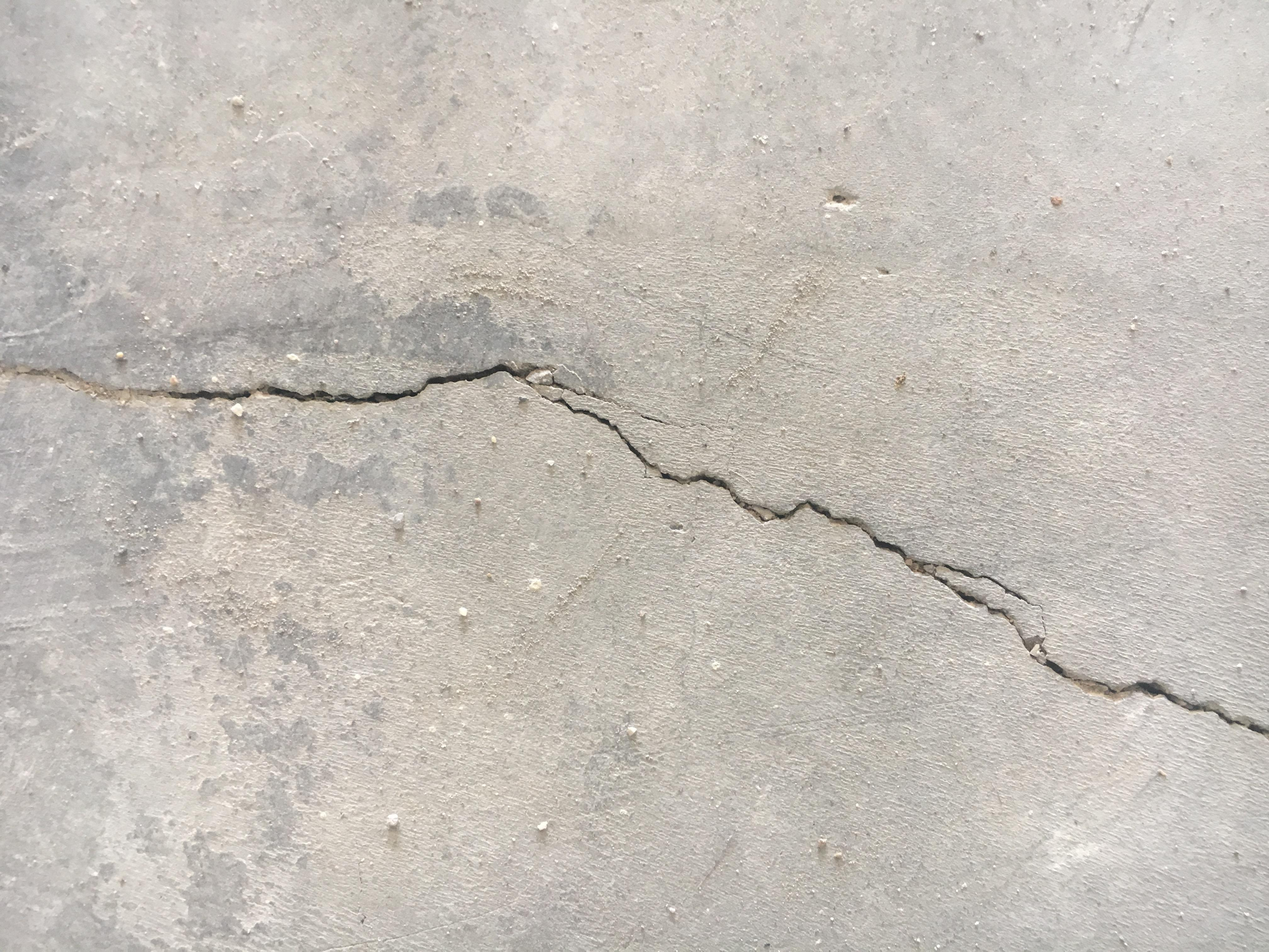Horizontal Settlement Crack: (6, 352, 1265, 741)
